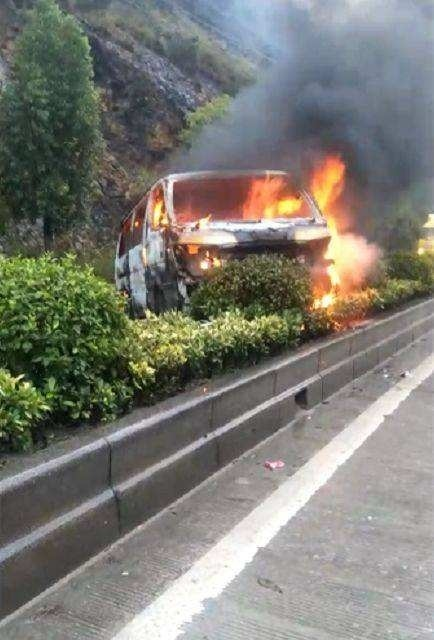fire: (139, 154, 374, 310)
